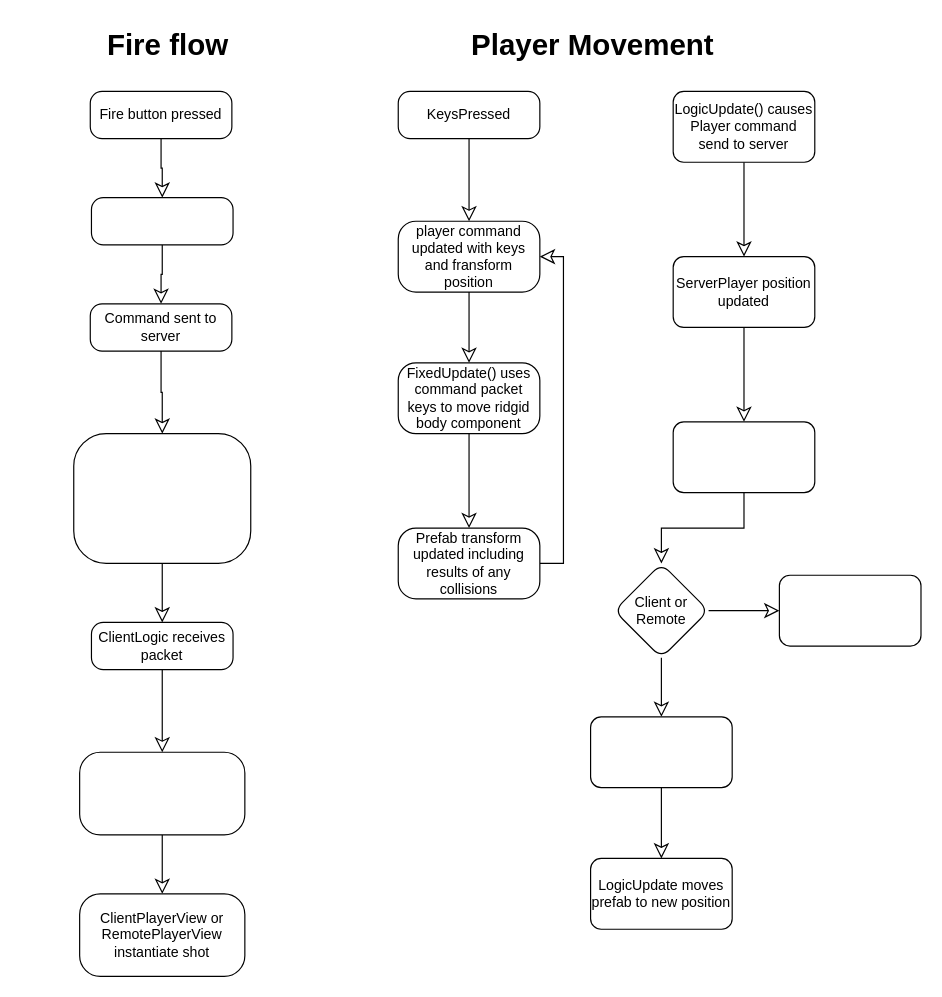
Some shapes in this 942 by 997 pixel diagram are drawn without their labels. The centre of each missing label's shape, as x and y in pixels:
"Client player _position variable updated" goes at (849,610).
"ClientPlayerManager uses PlayerHandler to call SpawnShot() via IPlayerView" goes at (161,793).
"Player command packet updated" goes at (161,220).
"Positions sent to all clients with server state" goes at (743,457).
"Remote Player position buffered and lerped into _position variable" goes at (660,752).
"ServerPlayerManager calls ServerPlayer ApplyInput() SpawnShot packet sent" goes at (162,497).
